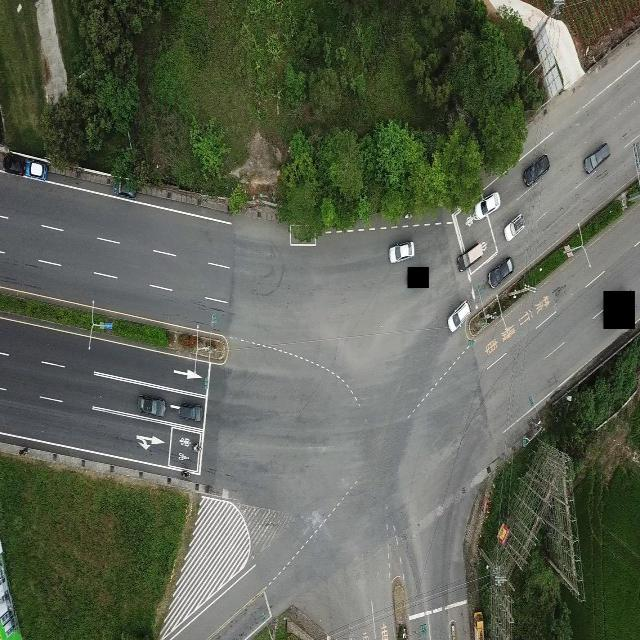bike: (180, 468, 192, 481), (190, 442, 202, 453)
car: (522, 152, 550, 185), (457, 240, 486, 271), (487, 256, 513, 287), (584, 141, 610, 172), (473, 190, 500, 219), (447, 300, 471, 332), (138, 393, 166, 416), (389, 240, 415, 263), (504, 213, 524, 241), (176, 402, 202, 423), (2, 151, 24, 175), (24, 158, 49, 179)
